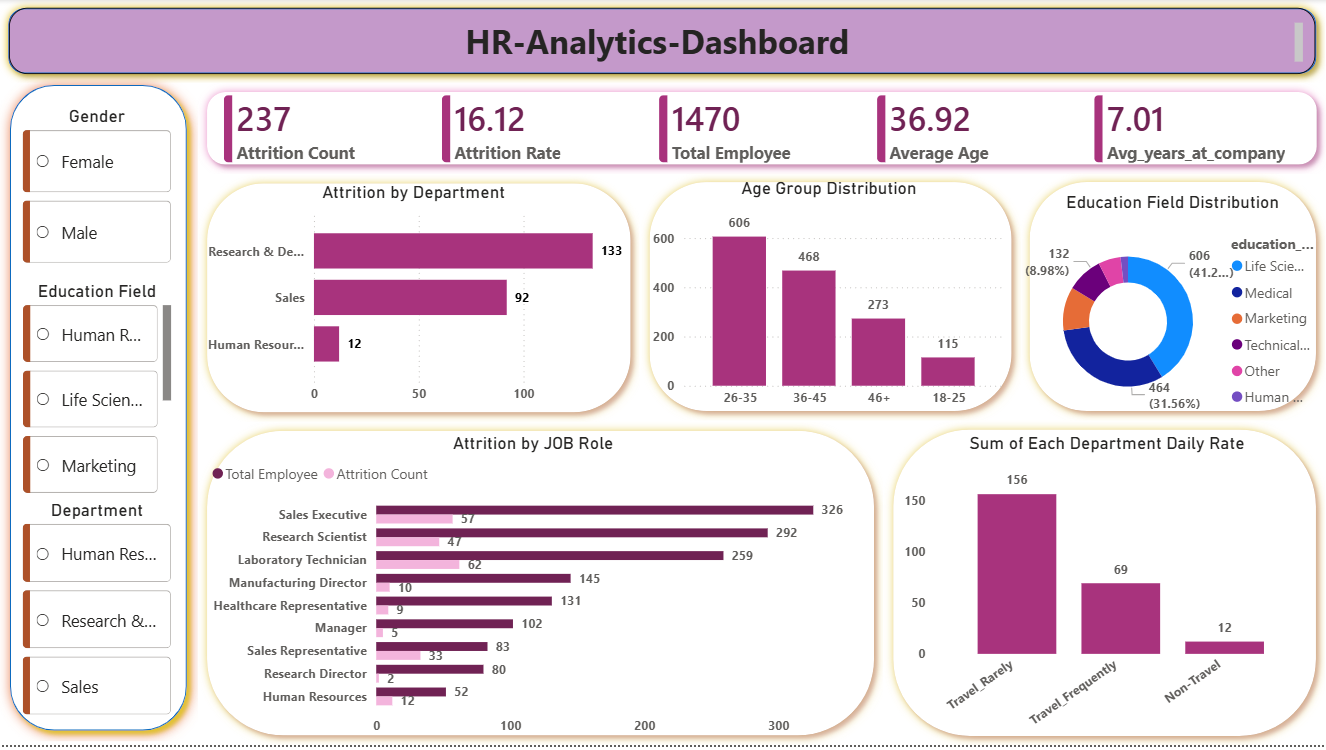

What the dashboard file says about the page in this screenshot:
{"tool":"powerbi","page":{"name":"Page 1","canvas":[1280,720],"ordinal":0},"visuals":[{"type":"shape","box":[0,0,1280.3,81],"z":0},{"type":"textbox","box":[9.7,8.4,1260.7,63.9],"z":1000},{"type":"shape","box":[191.3,81,1089,88],"z":2000},{"type":"cardVisual","fields":{"Data":["hr_Data.Attrition Count","hr_Data.Attrition Rate","hr_Data.Total Employee","hr_Data.Average Age","hr_Data.Avg_years_at_company"]},"box":[199.9,75.6,1080.4,99.9],"z":3000},{"type":"shape","box":[191.8,168.8,426.8,239],"z":4000},{"type":"clusteredBarChart","title":"Attrition by Department","fields":{"Category":["hr_Data.department"],"Y":["hr_Data.Attrition Count"]},"box":[182.3,175.6,436.2,222.8],"z":5000},{"type":"shape","box":[191.8,407.9,661.7,312],"z":6000},{"type":"clusteredBarChart","title":"Attrition by JOB Role","fields":{"Category":["hr_Data.jobrole"],"Y":["hr_Data.Total Employee","hr_Data.Attrition Count"]},"box":[199.9,418.7,630.7,301.2],"z":7000},{"type":"shape","box":[618.5,167.5,367.3,239],"z":8000},{"type":"clusteredColumnChart","title":"Age Group Distribution","fields":{"Category":["hr_Data.age_group"],"Y":["hr_Data.Total Employee"]},"box":[626.6,172.9,349.8,230.9],"z":9000},{"type":"shape","box":[985.9,167.5,294.4,239],"z":10000},{"type":"donutChart","title":"Education Field Distribution","fields":{"Category":["hr_Data.education_field"],"Y":["hr_Data.Total Employee"]},"box":[985.9,186.4,294.4,232.3],"z":11000},{"type":"shape","box":[854.2,406.6,425.9,313.7],"z":12000},{"type":"columnChart","title":"Sum of Each Department Daily Rate","fields":{"Category":["hr_Data.business_travel"],"Y":["hr_Data.Attrition Count"]},"box":[868.6,418.6,401.7,301.6],"z":13000},{"type":"shape","box":[0,72.4,191.8,644.2],"z":13001},{"type":"advancedSlicerVisual","title":"Gender","fields":{"Values":["hr_Data.gender"]},"box":[18.1,102.5,153.2,158],"z":13002},{"type":"advancedSlicerVisual","title":"Education Field","fields":{"Values":["hr_Data.education_field"]},"box":[18.1,271.4,153.2,211.1],"z":13003},{"type":"advancedSlicerVisual","title":"Department","fields":{"Values":["hr_Data.department"]},"box":[18.1,482.6,153.2,214.7],"z":13004}]}

Visuals, with their boxes in screenshot pixels (x1, y1, x2, y2), scaled from the page's 1280x720 canvas onto the 1326x750 screenshot:
shape: x1=0 y1=0 x2=1325 y2=84
textbox: x1=10 y1=9 x2=1316 y2=75
shape: x1=198 y1=84 x2=1325 y2=176
cardVisual - hr_Data.Attrition Count x hr_Data.Attrition Rate: x1=207 y1=79 x2=1325 y2=183
shape: x1=199 y1=176 x2=641 y2=425
"Attrition by Department" clusteredBarChart: x1=189 y1=183 x2=641 y2=415
shape: x1=199 y1=425 x2=884 y2=749
"Attrition by JOB Role" clusteredBarChart: x1=207 y1=436 x2=860 y2=749
shape: x1=641 y1=174 x2=1021 y2=423
"Age Group Distribution" clusteredColumnChart: x1=649 y1=180 x2=1011 y2=421
shape: x1=1021 y1=174 x2=1325 y2=423
"Education Field Distribution" donutChart: x1=1021 y1=194 x2=1325 y2=436
shape: x1=885 y1=424 x2=1325 y2=749
"Sum of Each Department Daily Rate" columnChart: x1=900 y1=436 x2=1316 y2=749
shape: x1=0 y1=75 x2=199 y2=746
"Gender" advancedSlicerVisual: x1=19 y1=107 x2=177 y2=271
"Education Field" advancedSlicerVisual: x1=19 y1=283 x2=177 y2=503
"Department" advancedSlicerVisual: x1=19 y1=503 x2=177 y2=726
